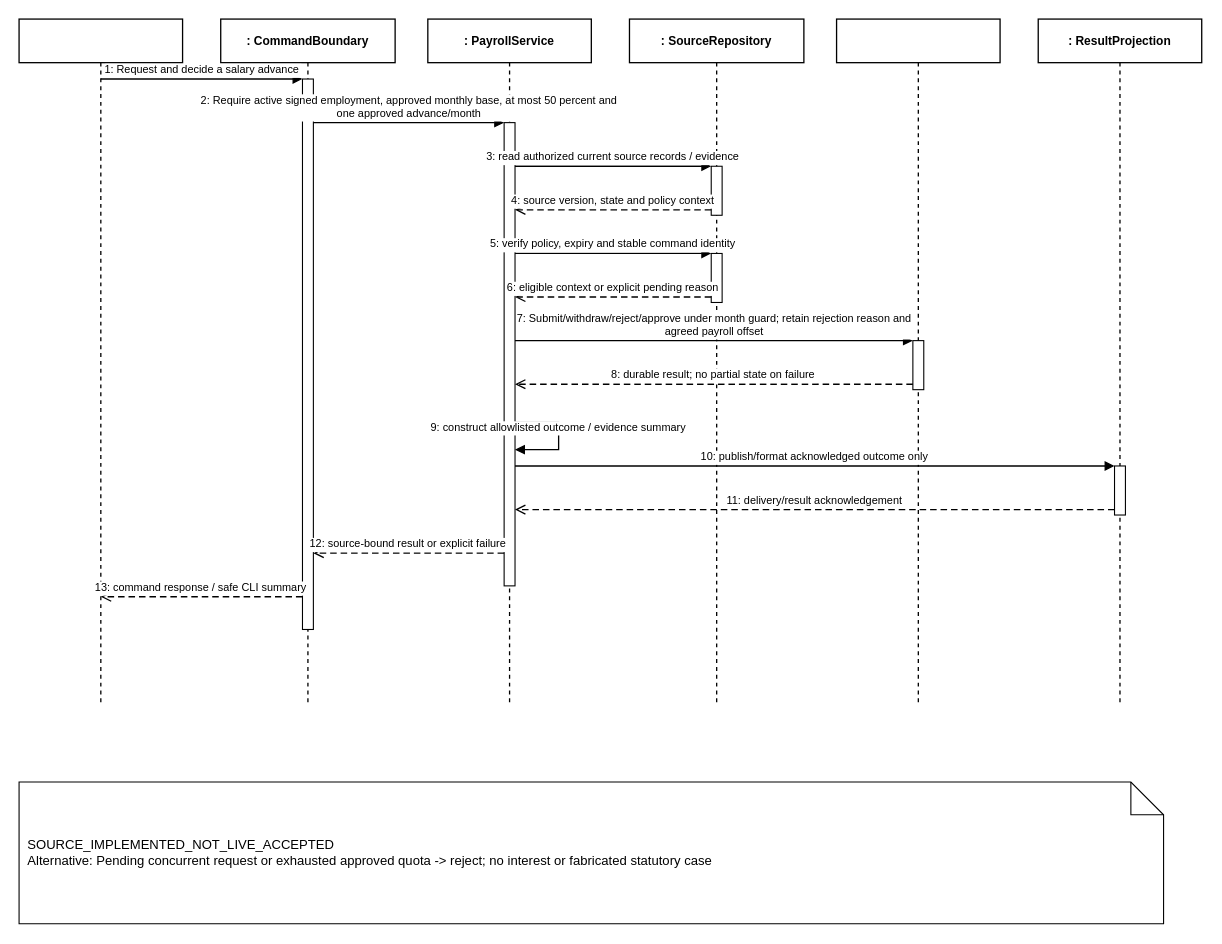
Image size: 1222x944. Some labels were removed from this diagram. The box of each missing label's shape, as (x1, y1, x2, y2) in pixels:
: GuardedPersistence: (835, 18, 1000, 706)
Actor (Pet Sitter / Admin): (18, 18, 183, 706)
